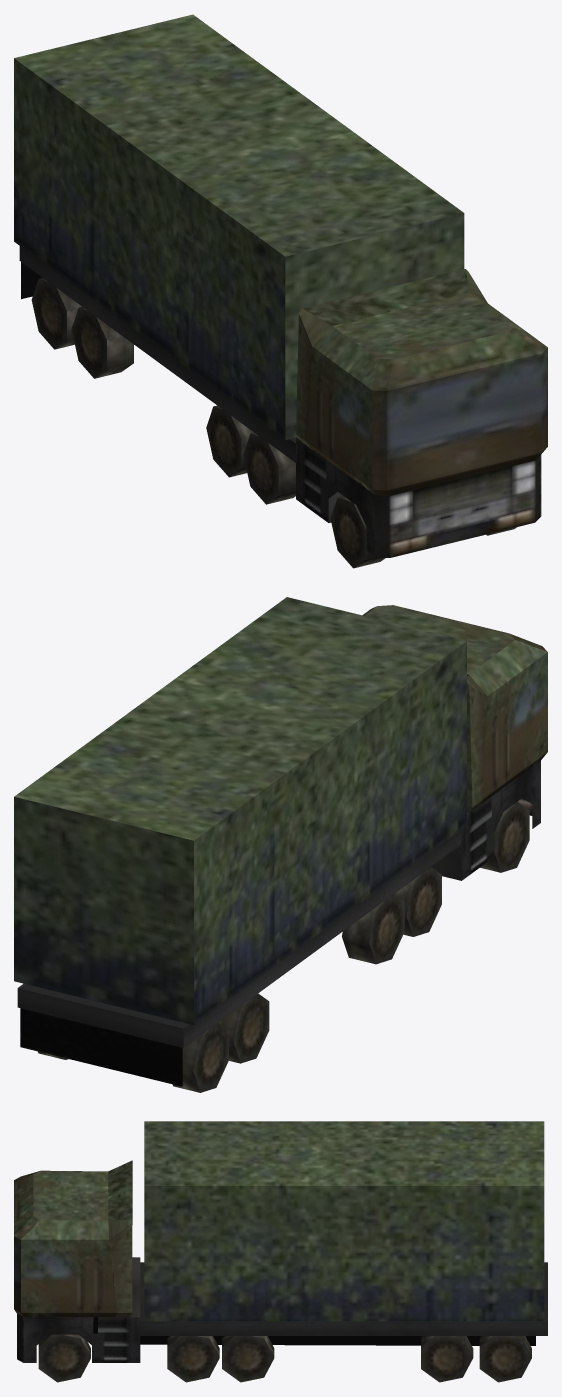
Rendered from AutomobileCon.FBX.
3 views of the same model, one above another, from view 1: azimuth 30°, elevation 25°; view 2: azimuth 150°, elevation 25°; view 3: azimuth 270°, elevation 25° (orthographic). The views are drawn at different scales.
Visible parts, largest first — view 1: Container, Automobile, Wheel7, Wheel3, Wheel9, Wheel5, Wheel1; view 2: Container, Automobile, Wheel5, Wheel9, Wheel7, Wheel3, Wheel1; view 3: Container, Automobile, Wheel2, Wheel10, Wheel4, Wheel6, Wheel8.
Part boxes in pixels (<box>): Container: <box>14,14,464,439</box>; Automobile: <box>19,246,547,557</box>; Wheel7: <box>71,307,133,378</box>; Wheel3: <box>243,432,295,504</box>; Wheel9: <box>31,277,81,349</box>; Wheel5: <box>206,405,253,477</box>; Wheel1: <box>330,496,385,568</box>; Container: <box>14,597,466,1024</box>; Automobile: <box>17,605,547,1086</box>; Wheel5: <box>342,894,404,964</box>; Wheel9: <box>172,1023,228,1092</box>; Wheel7: <box>218,993,269,1063</box>; Wheel3: <box>394,867,441,936</box>; Wheel1: <box>480,801,529,872</box>; Container: <box>144,1121,544,1321</box>; Automobile: <box>14,1160,547,1362</box>; Wheel2: <box>38,1334,90,1382</box>; Wheel10: <box>479,1336,531,1382</box>; Wheel4: <box>167,1336,219,1382</box>; Wheel6: <box>222,1336,274,1382</box>; Wheel8: <box>421,1336,473,1382</box>.
Bounding box in the file's own units: 342 × 1196 × 494.
